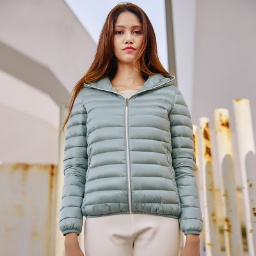face: (86, 3, 167, 81)
